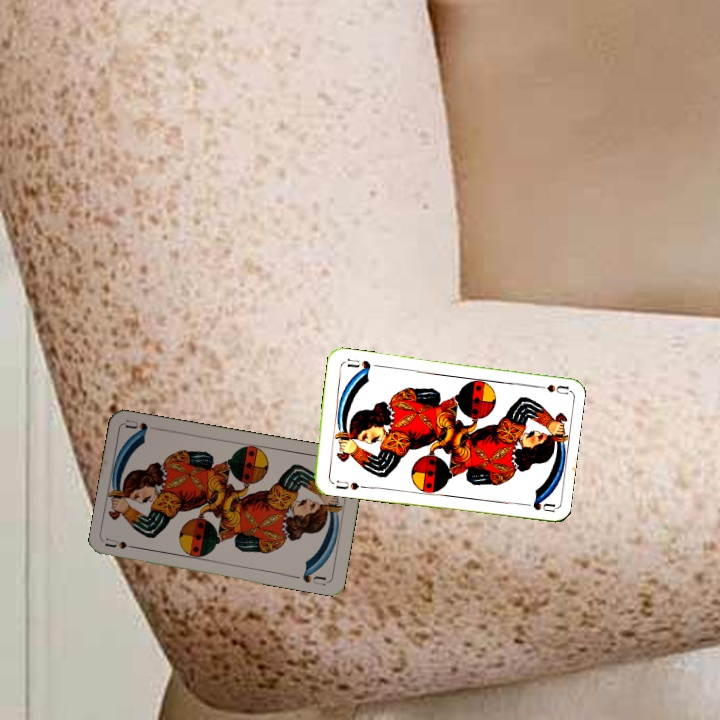SU: (102, 534, 143, 552), (529, 380, 570, 397), (331, 476, 361, 493)
